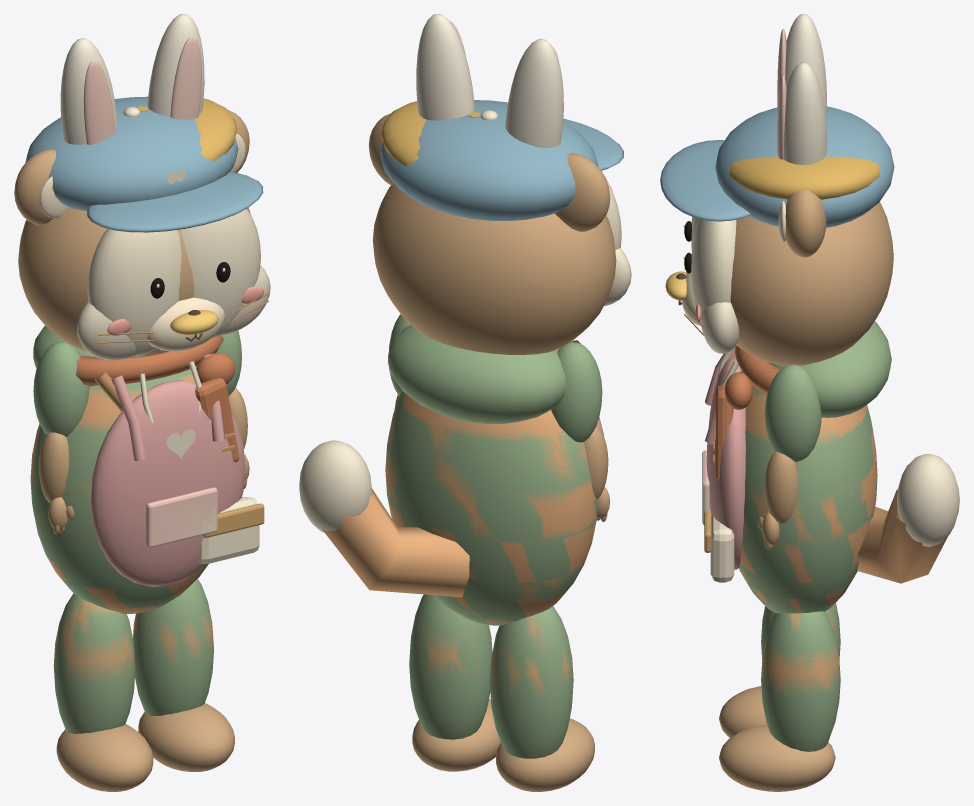
The model's file is restaurant-cozy-customers.glb.
The picture shows the model from 3 angles, left to right: view 1: azimuth 30°, elevation 25°; view 2: azimuth 150°, elevation 25°; view 3: azimuth 270°, elevation 25°; orthographic projection. The views are drawn at different scales.
Visible parts, largest first — view 1: customer_0, customer_3_head, customer_1, customer_2, customer_0_head, customer_0_upper_mesh_right, customer_2_head, customer_1_ear_mesh_right_0, customer_1_ear_mesh_left_0, customer_4_head, customer_1_ear_mesh_right_1, customer_1_ear_mesh_left_1 (+7 smaller); view 2: customer_0, customer_2, customer_0_head, customer_3_head, customer_1_ear_mesh_right_0, customer_1_ear_mesh_left_0, customer_0_upper_mesh_right, customer_0_ear_mesh_right_0, customer_4_head, customer_0_lower_mesh_right, customer_2_head, customer_0_ear_mesh_left_0; view 3: customer_0, customer_2, customer_0_head, customer_3_head, customer_4_head, customer_1, customer_0_upper_mesh_left, customer_1_ear_mesh_left_0, customer_0_ear_mesh_left_0, customer_1_ear_mesh_right_0, customer_0_lower_mesh_left, customer_2_head (+2 smaller).
Boxes of the visible parts, x1,y1,x2,y2 form: customer_0: [30, 325, 264, 791]; customer_3_head: [25, 97, 263, 356]; customer_1: [90, 354, 245, 586]; customer_2: [31, 335, 239, 733]; customer_0_head: [18, 207, 250, 357]; customer_0_upper_mesh_right: [33, 341, 89, 436]; customer_2_head: [77, 265, 270, 360]; customer_1_ear_mesh_right_0: [60, 38, 117, 144]; customer_1_ear_mesh_left_0: [147, 14, 204, 116]; customer_4_head: [97, 96, 268, 343]; customer_1_ear_mesh_right_1: [83, 60, 115, 144]; customer_1_ear_mesh_left_1: [170, 35, 201, 119]; customer_0: [386, 325, 597, 791]; customer_2: [299, 341, 596, 758]; customer_0_head: [372, 183, 616, 354]; customer_3_head: [380, 100, 623, 249]; customer_1_ear_mesh_right_0: [505, 39, 563, 147]; customer_1_ear_mesh_left_0: [416, 14, 474, 120]; customer_0_upper_mesh_right: [551, 342, 602, 442]; customer_0_ear_mesh_right_0: [555, 153, 610, 231]; customer_4_head: [381, 101, 480, 166]; customer_0_lower_mesh_right: [584, 425, 608, 498]; customer_2_head: [604, 248, 631, 306]; customer_0_ear_mesh_left_0: [368, 113, 393, 185]; customer_0: [704, 321, 891, 791]; customer_2: [713, 345, 959, 751]; customer_0_head: [676, 202, 893, 365]; customer_3_head: [660, 106, 894, 322]; customer_4_head: [684, 156, 880, 335]; customer_1: [702, 347, 745, 569]; customer_0_upper_mesh_left: [764, 364, 821, 462]; customer_1_ear_mesh_left_0: [784, 62, 826, 164]; customer_0_ear_mesh_left_0: [785, 190, 826, 257]; customer_1_ear_mesh_right_0: [785, 14, 826, 111]; customer_0_lower_mesh_left: [764, 451, 798, 523]; customer_2_head: [684, 287, 739, 353].
Bounding box in the file's own units: 0.808 × 2.42 × 0.903.
